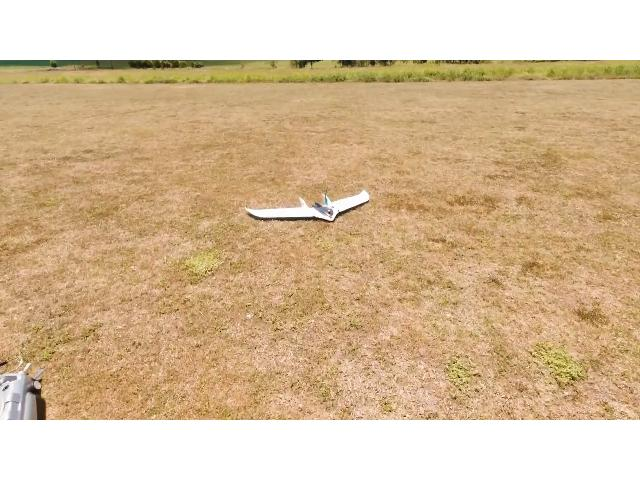Anti-Drone: (242, 167, 382, 241)
